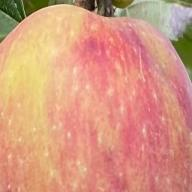Apples: (0, 5, 192, 192)
